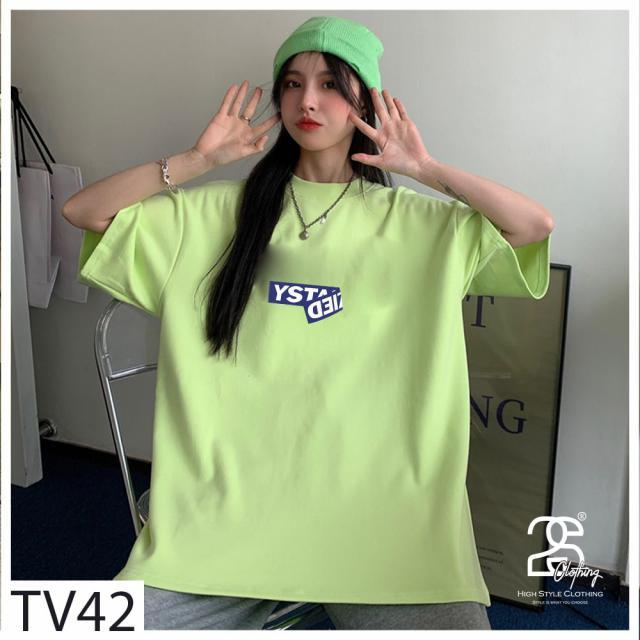Shirt: (75, 166, 558, 615)
